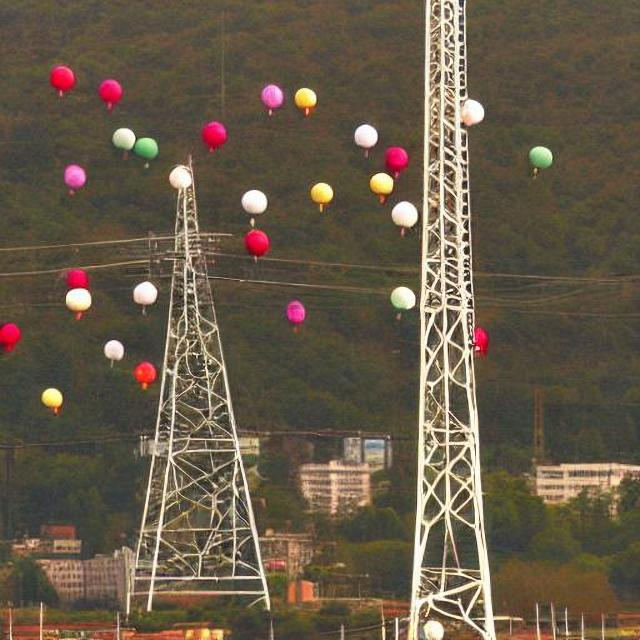balloon: (53, 157, 94, 208), (109, 126, 160, 161), (356, 163, 404, 198), (61, 269, 92, 316), (44, 58, 79, 98), (278, 288, 310, 328), (96, 75, 131, 110), (197, 118, 230, 154), (390, 196, 423, 232), (453, 100, 497, 126), (350, 114, 380, 152), (240, 226, 272, 258), (259, 82, 293, 111), (0, 311, 27, 346), (128, 278, 160, 307), (239, 187, 269, 217), (526, 143, 553, 172), (388, 284, 417, 311), (135, 360, 164, 387), (40, 382, 72, 406), (386, 139, 406, 177), (307, 179, 334, 206), (296, 84, 319, 114), (163, 164, 194, 185), (101, 337, 125, 362)
